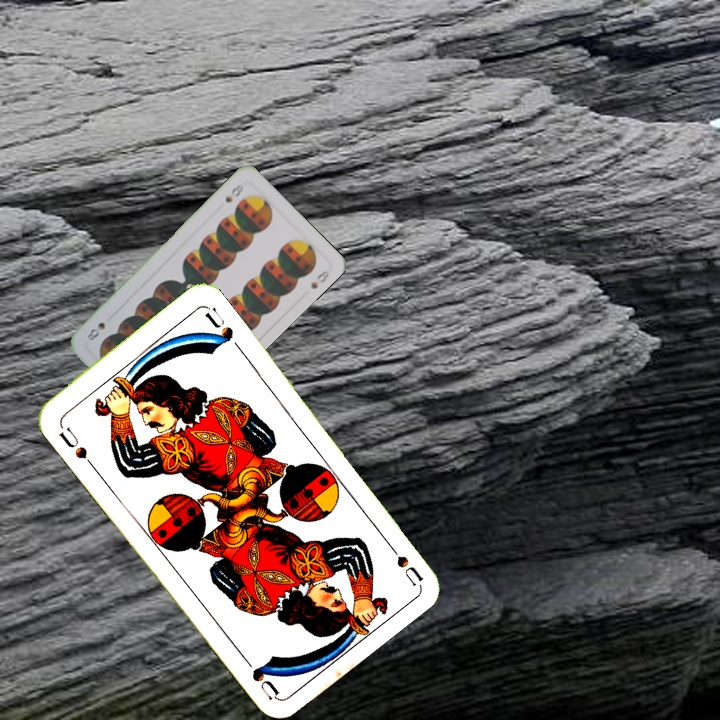S8: (221, 180, 246, 205)
SU: (380, 534, 425, 587), (54, 422, 97, 470)
